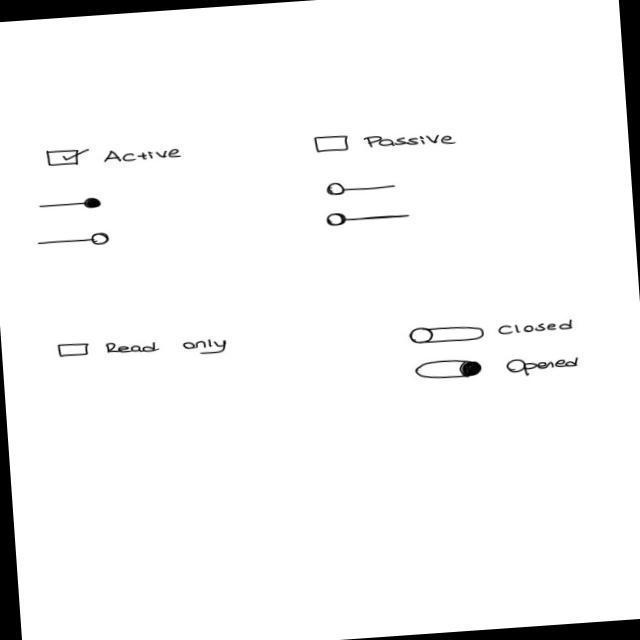checkbox: (57, 331, 229, 367), (311, 125, 460, 155), (46, 140, 185, 171)
label: (505, 353, 580, 378), (497, 318, 576, 337)
slider: (326, 208, 412, 229), (37, 231, 113, 251), (325, 178, 399, 198), (38, 196, 104, 214)
toggle: (414, 357, 485, 383), (409, 324, 486, 347)
